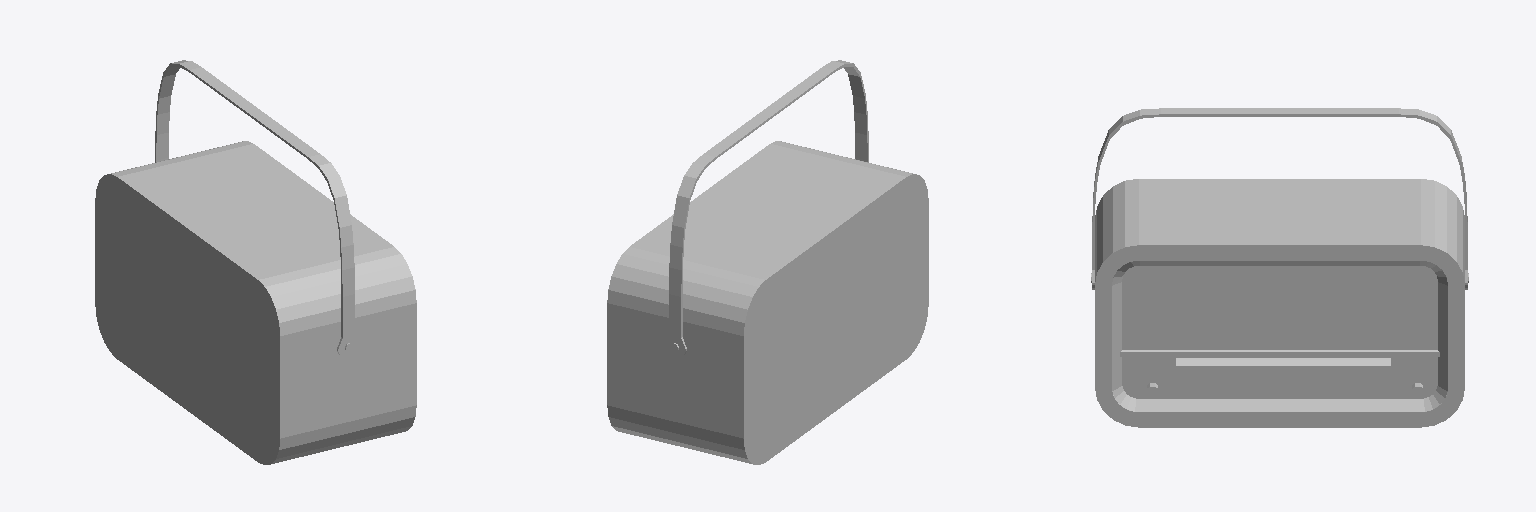
File: radio.obj
The picture shows the model from 3 angles: view 1: azimuth 30°, elevation 25°; view 2: azimuth 150°, elevation 25°; view 3: azimuth 270°, elevation 25°; orthographic projection.
Visible parts, largest first — view 1: Cube, Cylinder.002; view 2: Cube, Cylinder.002; view 3: Cube, Cylinder.004, Cube.002, Cube.001, Cylinder.002.
Boxes of the visible parts, x1=… form: Cube: x1=95, y1=141, x2=416, y2=464; Cylinder.002: x1=155, y1=60, x2=359, y2=357; Cube: x1=607, y1=141, x2=928, y2=464; Cylinder.002: x1=664, y1=60, x2=868, y2=357; Cube: x1=1095, y1=179, x2=1464, y2=427; Cylinder.004: x1=1122, y1=357, x2=1437, y2=398; Cube.002: x1=1112, y1=261, x2=1447, y2=411; Cube.001: x1=1107, y1=256, x2=1452, y2=416; Cylinder.002: x1=1092, y1=108, x2=1467, y2=289.
Size of the model in its own units: 2 by 4.04 by 4.81.